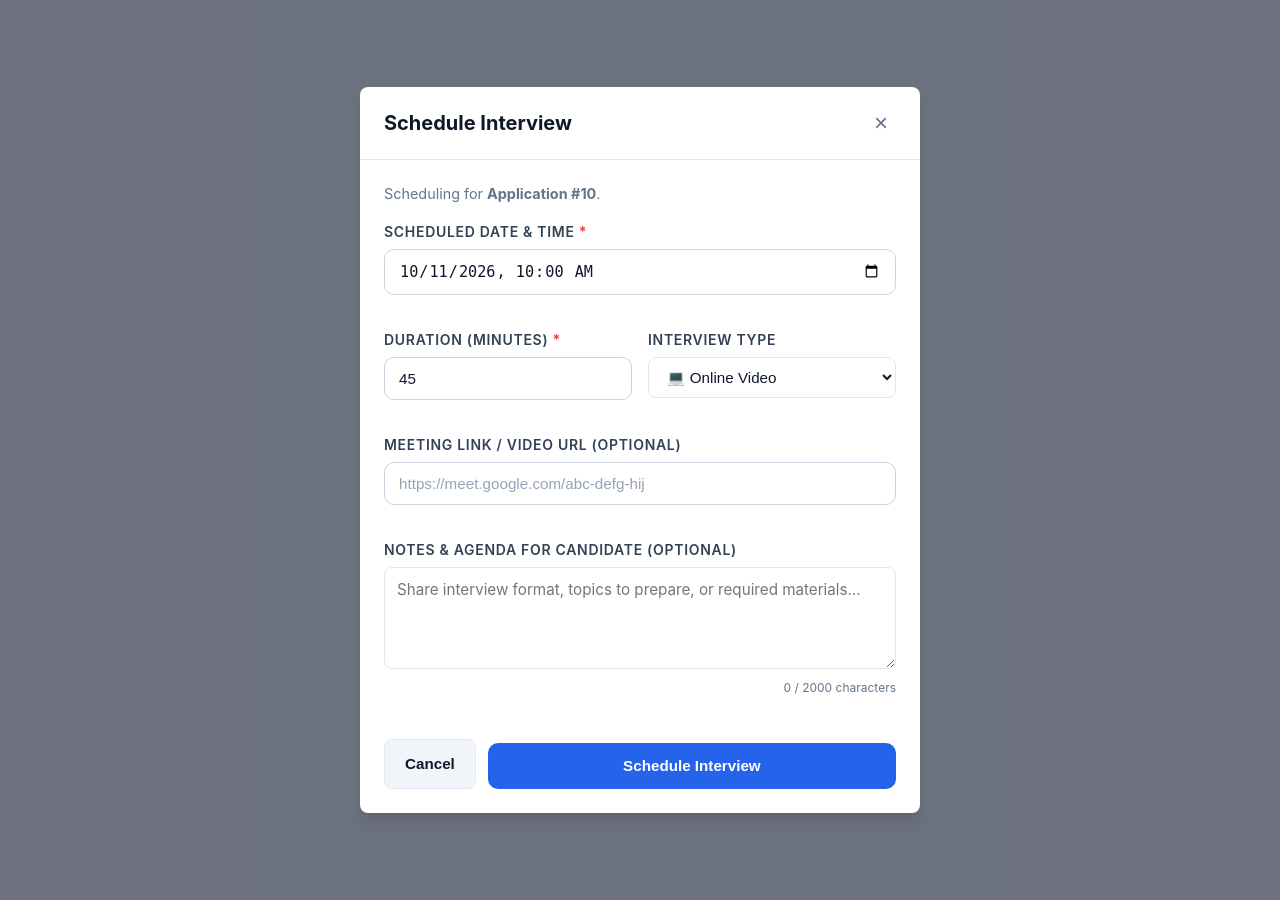
Test: ScheduleInterviewModal Component › displays error alert on 409 scheduling conflict
Step 1. Click the button with test id "submit-schedule-interview-btn" → (692, 766), box [488, 743, 896, 789]
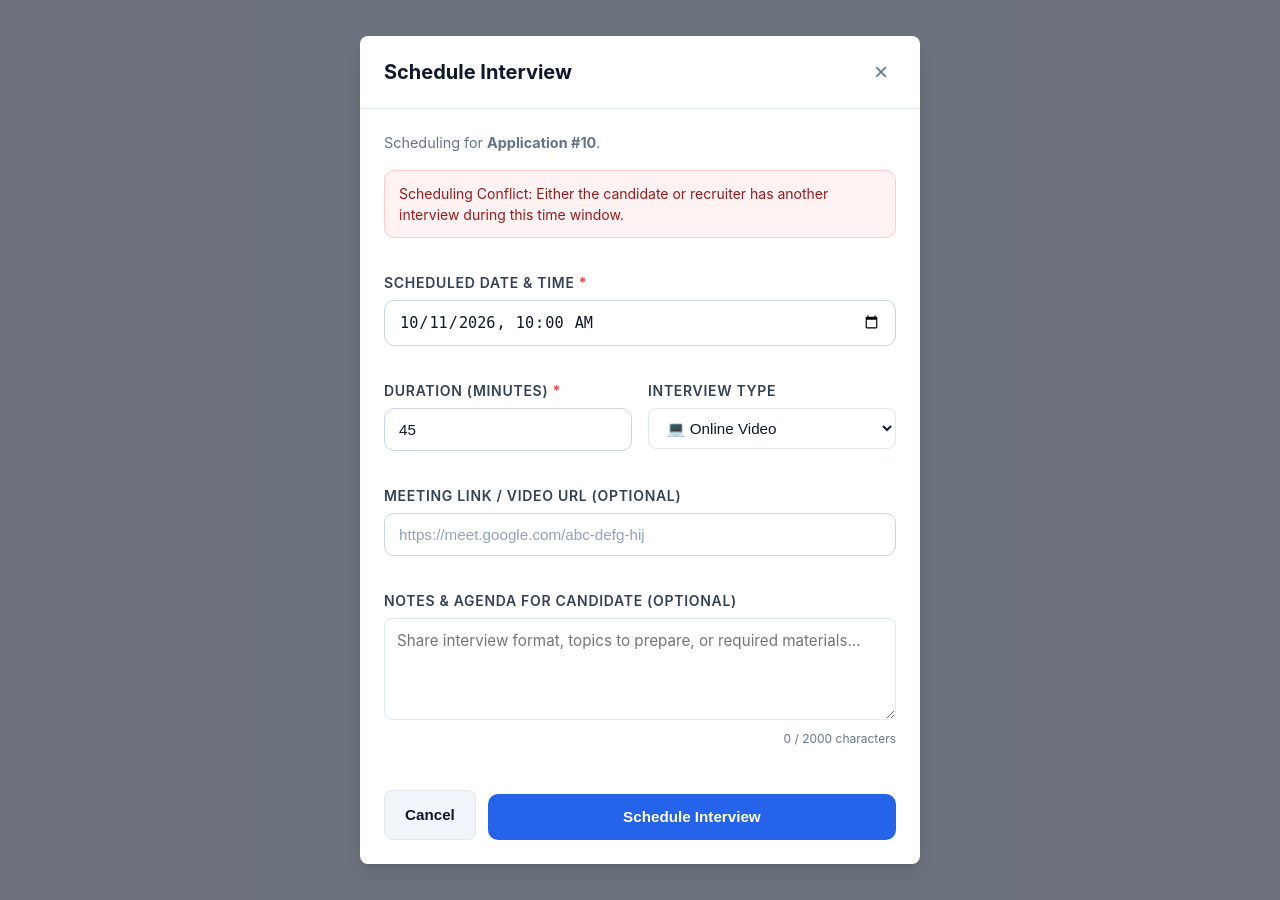
Expected: the message is shown, [384, 170, 896, 238]
Expected: the message shows "Scheduling Conflict", [399, 185, 828, 223]
